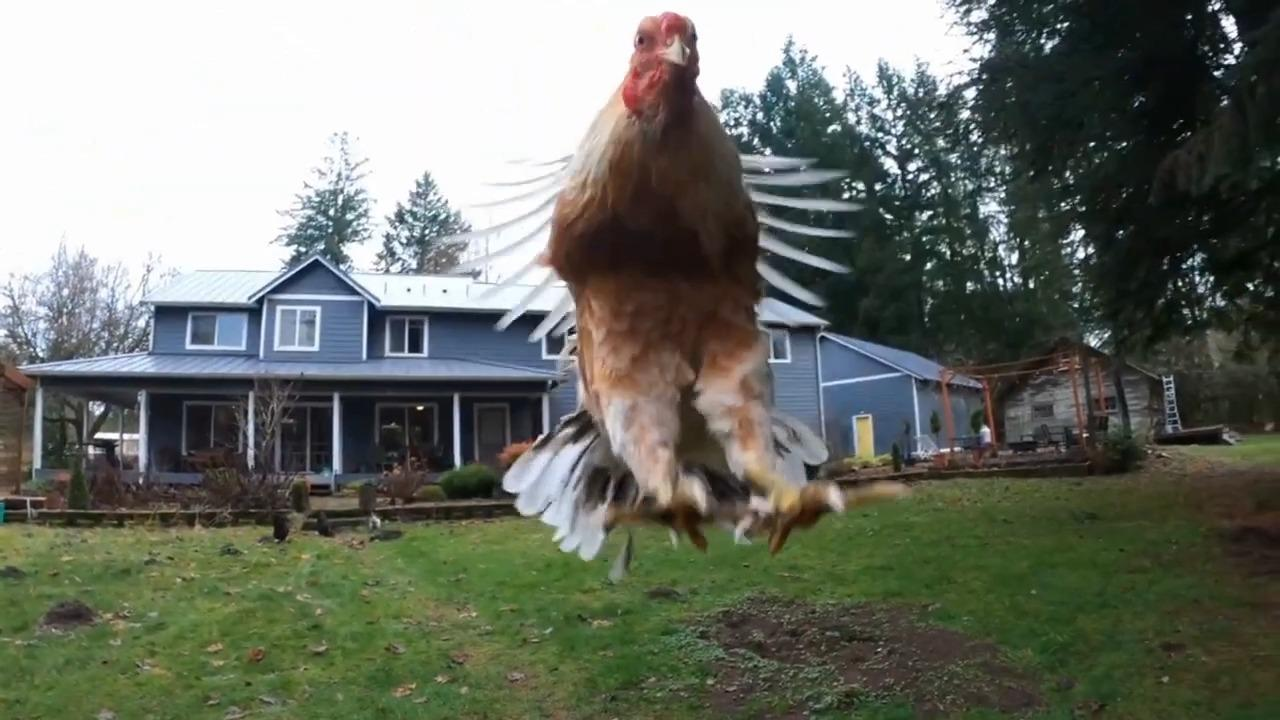Normal: (476, 14, 938, 572)
